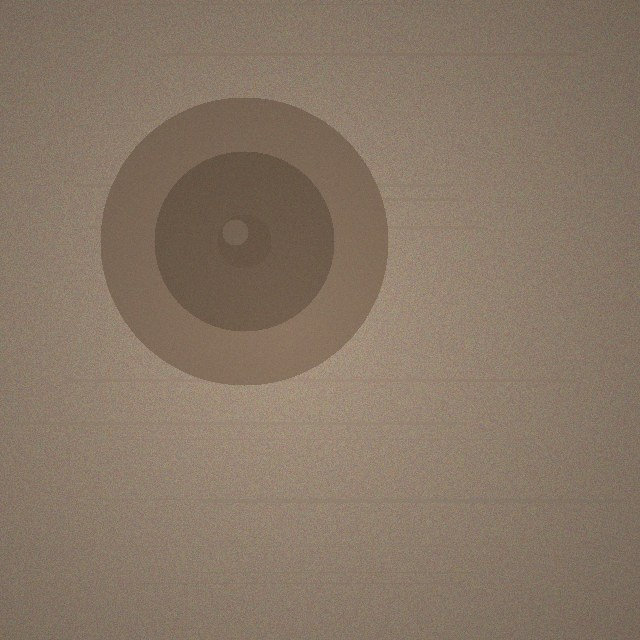good: (100, 97, 388, 385)
